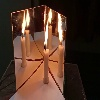fire: (44, 20, 49, 51)
